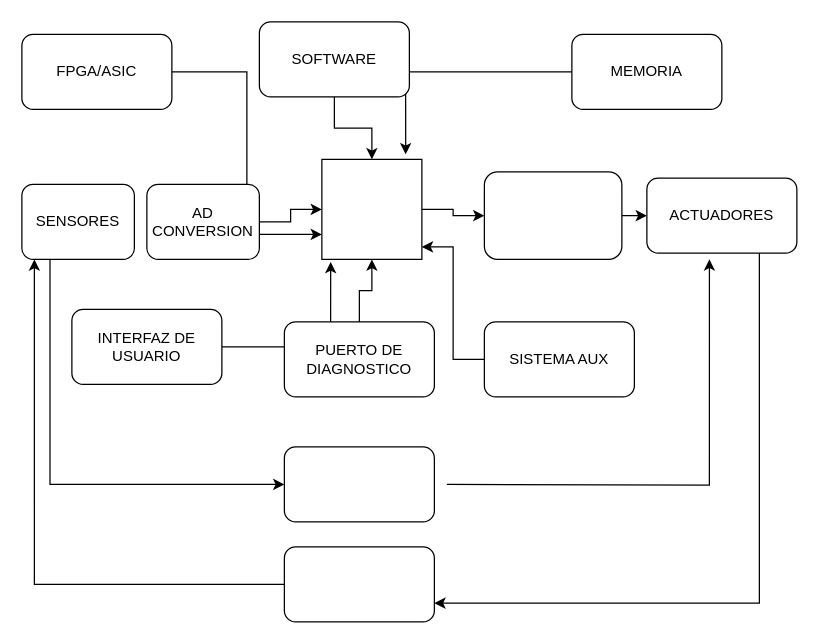
This 819x644 diagram has some shape labels left out. Here are the shapes that lost their labels. From the top down, the centre of each, then its label:
(371,208): CPU
(552,215): DA CONVERSION
(358,484): ELECTRO MECANISMO DE PROTECCION Y RESPALDO
(358,584): ENTORNO EXTERNO
